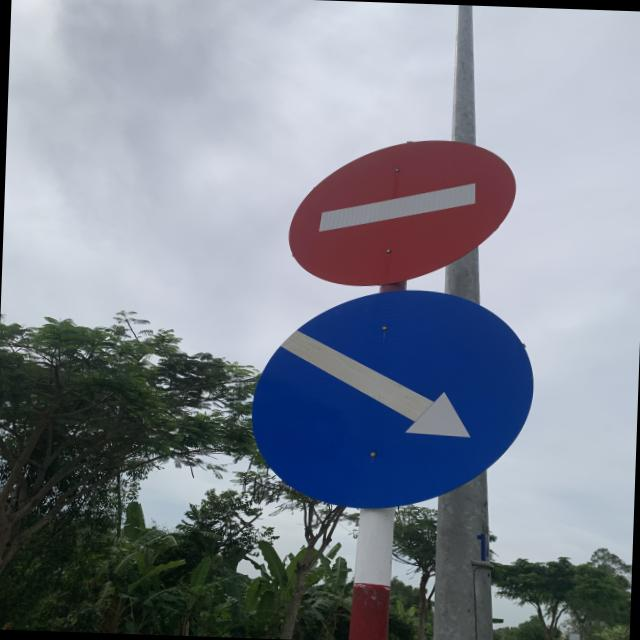Cam_Di_Nguoc_Chieu: (283, 132, 518, 290)
Chi_Huong_Di_Phai: (248, 287, 536, 517)
